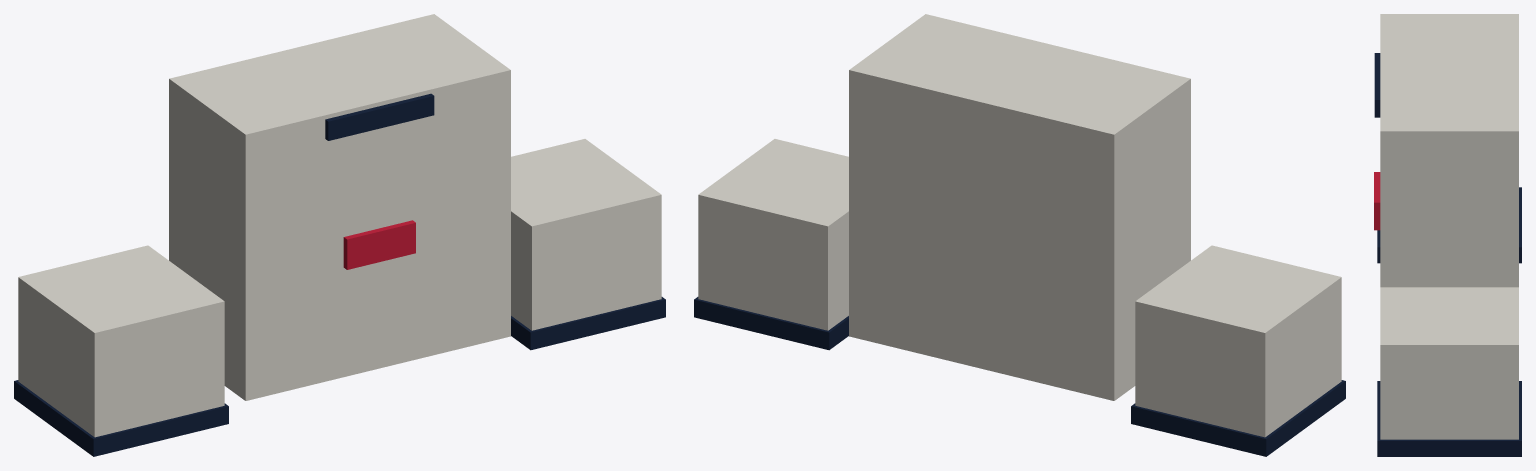
The model's file is Remera.fbx.
The picture shows the model from 3 angles, left to right: view 1: azimuth 30°, elevation 25°; view 2: azimuth 150°, elevation 25°; view 3: azimuth 270°, elevation 25°; orthographic projection. The views are drawn at different scales.
Parts seen in each view (by area): view 1: Cuerpo_UpperTorso, Cuerpo_RightLowerArm, Cuerpo_LeftLowerArm, Remera_PunioRight, Remera_PunioLeft, Remera_Cuello, Remera_Franja; view 2: Cuerpo_UpperTorso, Cuerpo_RightLowerArm, Cuerpo_LeftLowerArm, Remera_PunioRight, Remera_PunioLeft; view 3: Cuerpo_UpperTorso, Cuerpo_LeftLowerArm, Remera_PunioLeft, Remera_Cuello, Remera_Franja, Remera_PunioRight.
Boxes of the visible parts, left/top/right/bottom form: Cuerpo_UpperTorso: left=169, top=14, right=510, bottom=400; Cuerpo_RightLowerArm: left=18, top=245, right=224, bottom=437; Cuerpo_LeftLowerArm: left=511, top=139, right=661, bottom=330; Remera_PunioRight: left=14, top=380, right=228, bottom=456; Remera_PunioLeft: left=511, top=297, right=665, bottom=350; Remera_Cuello: left=325, top=93, right=434, bottom=140; Remera_Franja: left=343, top=220, right=415, bottom=269; Cuerpo_UpperTorso: left=849, top=14, right=1190, bottom=400; Cuerpo_RightLowerArm: left=1135, top=245, right=1341, bottom=437; Cuerpo_LeftLowerArm: left=698, top=139, right=848, bottom=330; Remera_PunioRight: left=1131, top=380, right=1345, bottom=456; Remera_PunioLeft: left=694, top=297, right=848, bottom=350; Cuerpo_UpperTorso: left=1380, top=14, right=1518, bottom=287; Cuerpo_LeftLowerArm: left=1380, top=287, right=1518, bottom=439; Remera_PunioLeft: left=1377, top=381, right=1521, bottom=456; Remera_Cuello: left=1374, top=53, right=1380, bottom=117; Remera_Franja: left=1374, top=172, right=1380, bottom=230; Remera_PunioRight: left=1377, top=187, right=1521, bottom=263.
Size of the model in its own units: 3.85 by 1.83 by 0.95.
